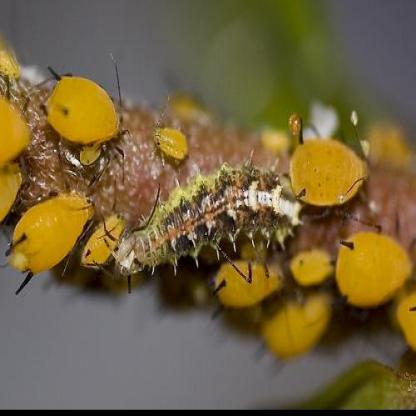aphid: (5, 189, 110, 286), (285, 100, 363, 217), (334, 214, 414, 314), (40, 78, 121, 146), (263, 288, 340, 359), (77, 200, 132, 285), (212, 253, 292, 311), (0, 90, 33, 169), (286, 243, 336, 293), (154, 115, 195, 168), (0, 157, 28, 227)
